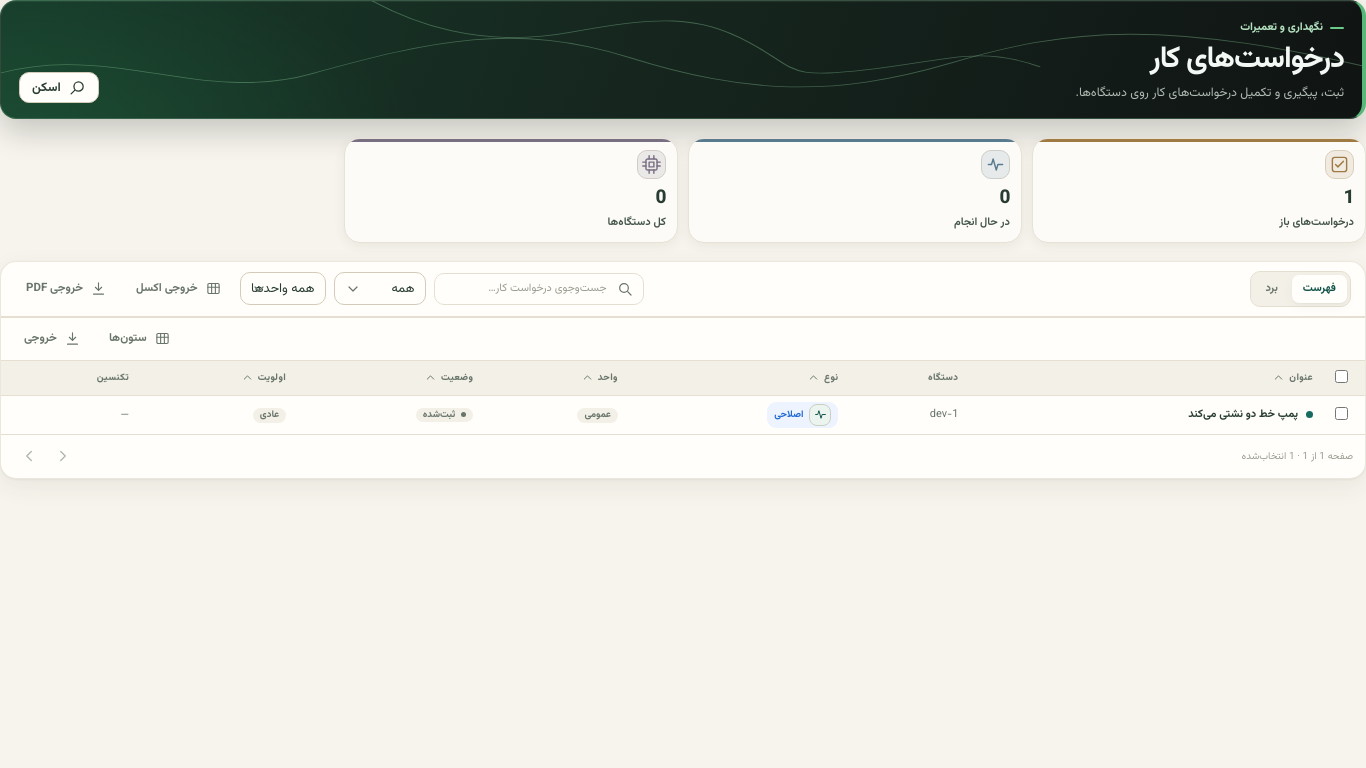
work order escalation — ارجاع پله‌به‌پله › offers ارجاع به بالا on an open order and posts only a note
Click the button "پمپ خط دو نشتی می‌کند": x=1251, y=414 top-left (1188, 406), bottom-right (1313, 423)
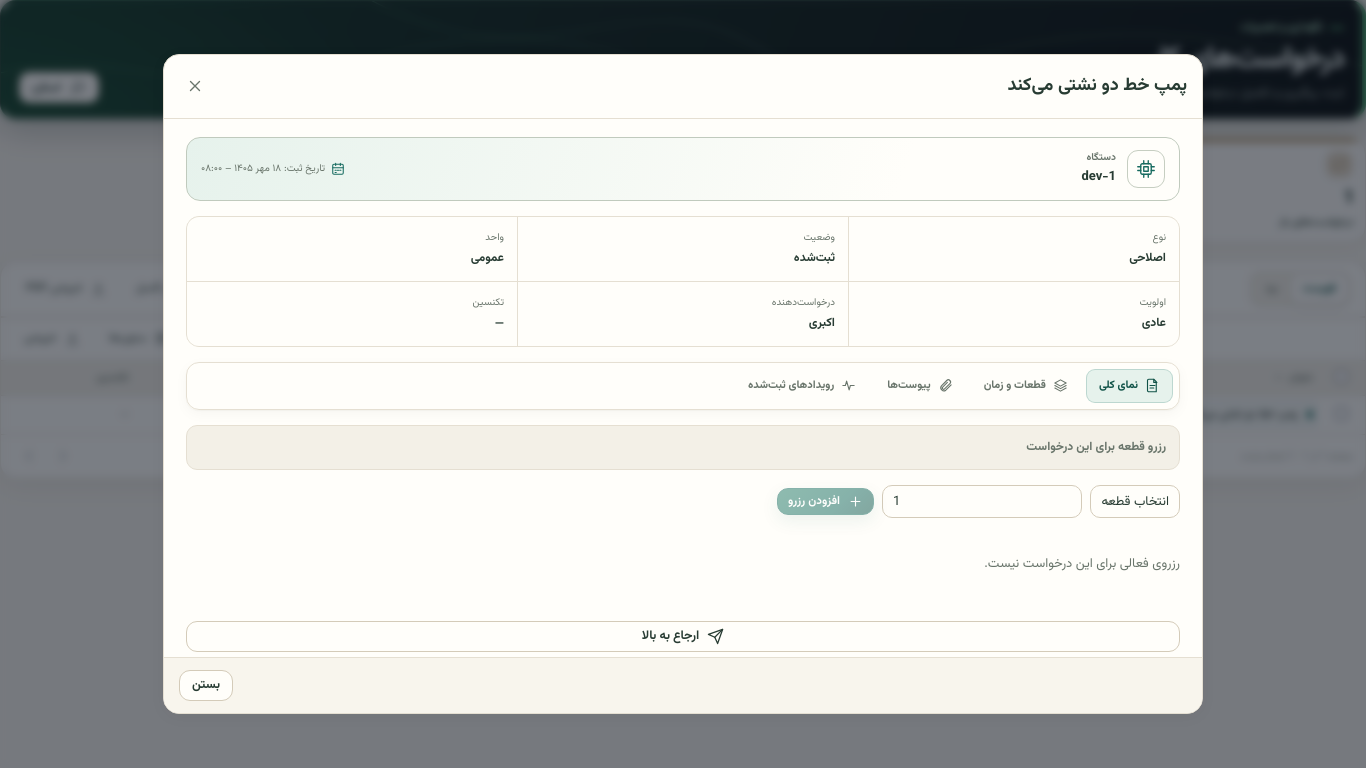
Click the button "ارجاع به بالا": x=683, y=636 top-left (186, 620), bottom-right (1180, 652)
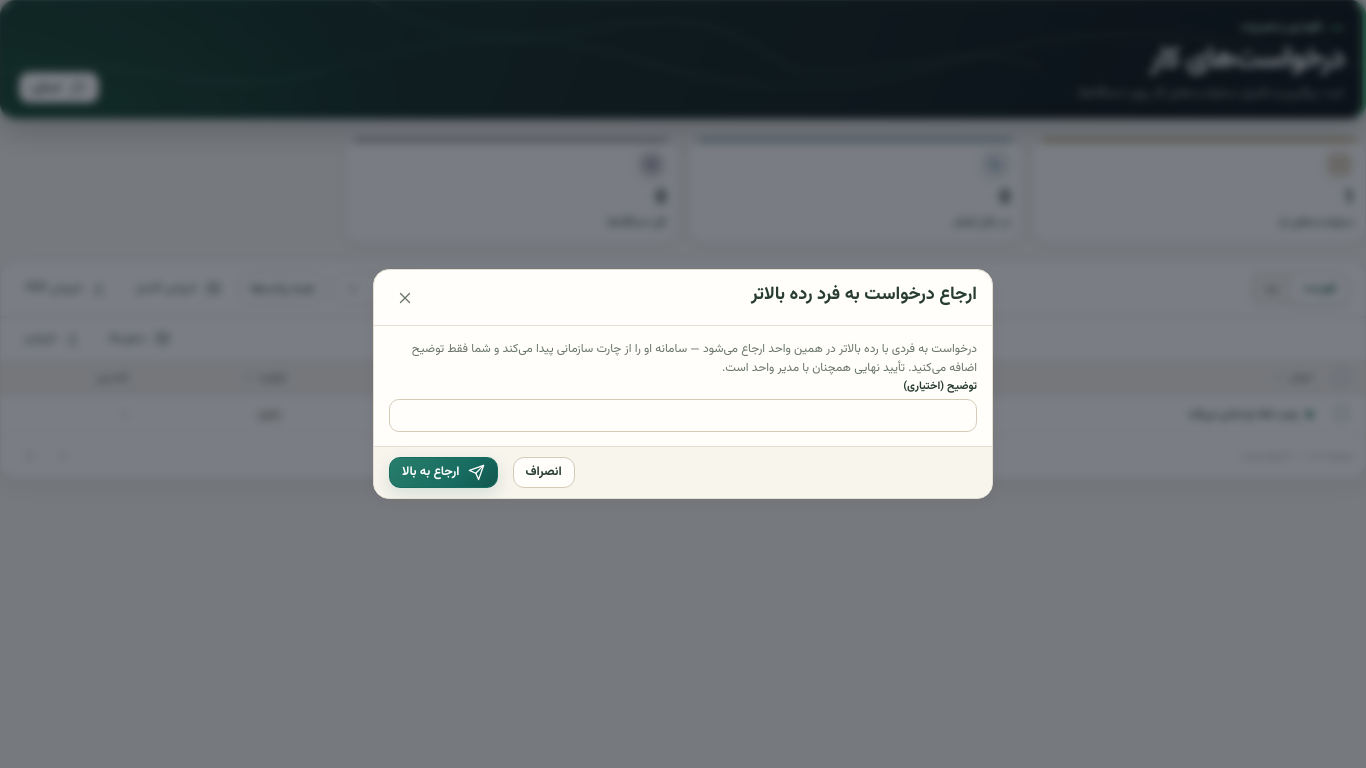
expect the text "تأیید نهایی همچنان با مدیر واحد است" is shown: met, box top-left (412, 340), bottom-right (977, 377)
In the field labelled "توضیح (اختیاری)": x=683, y=415 top-left (389, 399), bottom-right (977, 432), type "نیاز به تأیید بالاتر"
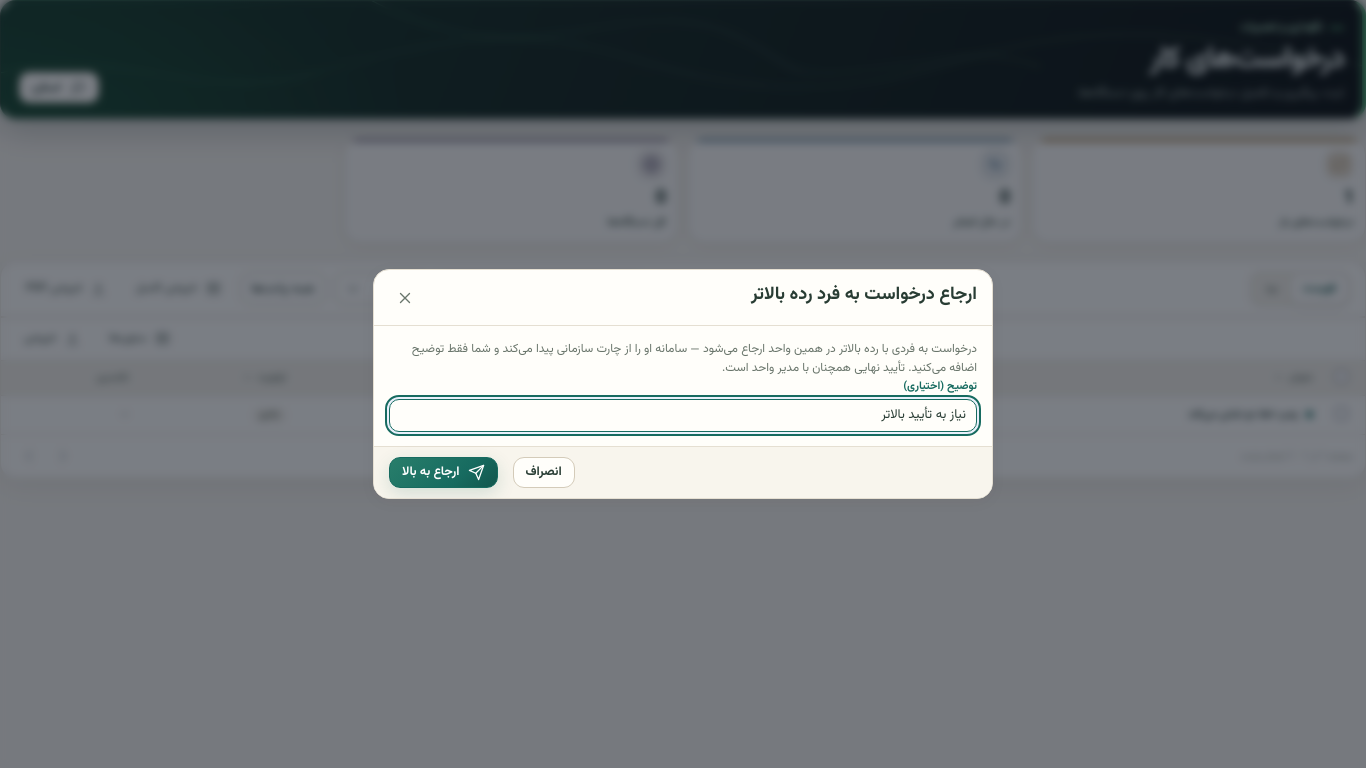
Click the button "ارجاع به بالا": x=443, y=472 top-left (389, 457), bottom-right (498, 488)
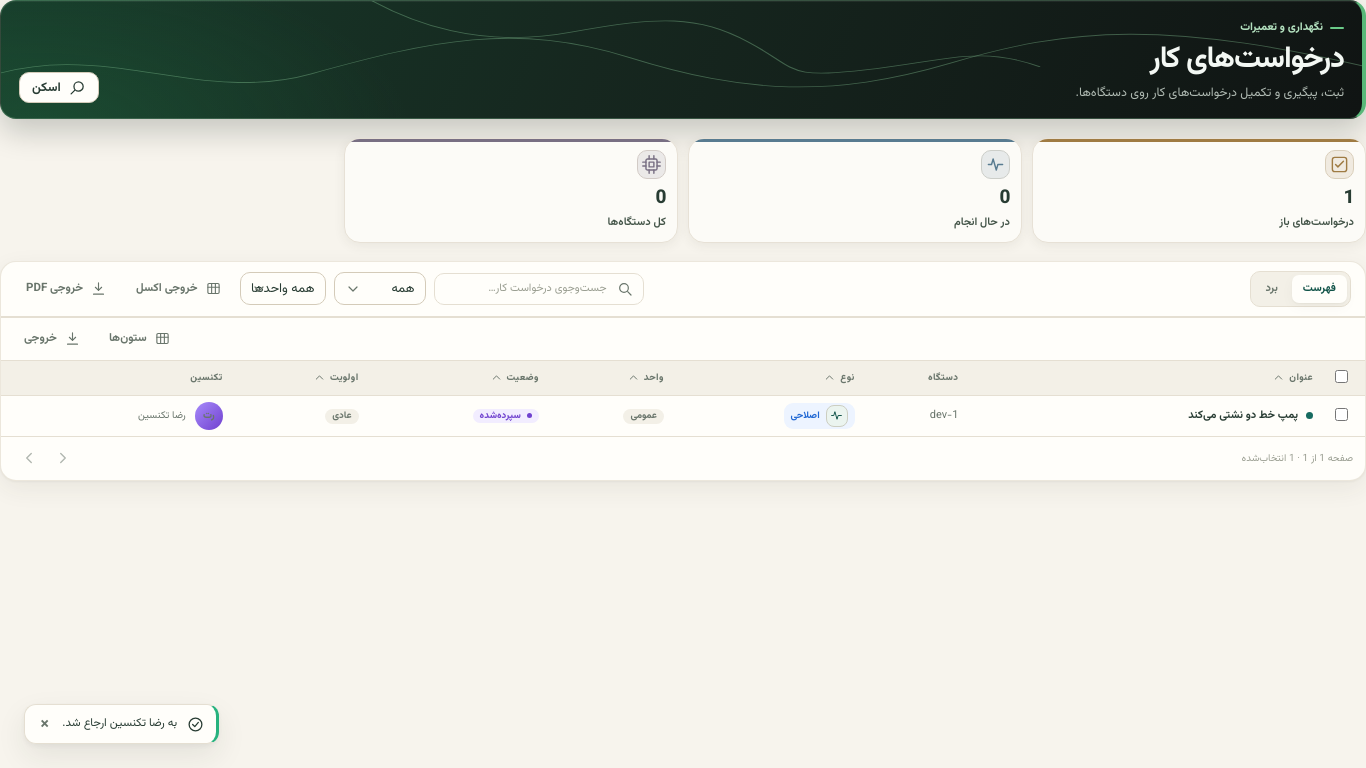
expect the text "به رضا تکنسین ارجاع شد." is shown: met, box top-left (62, 715), bottom-right (177, 733)
